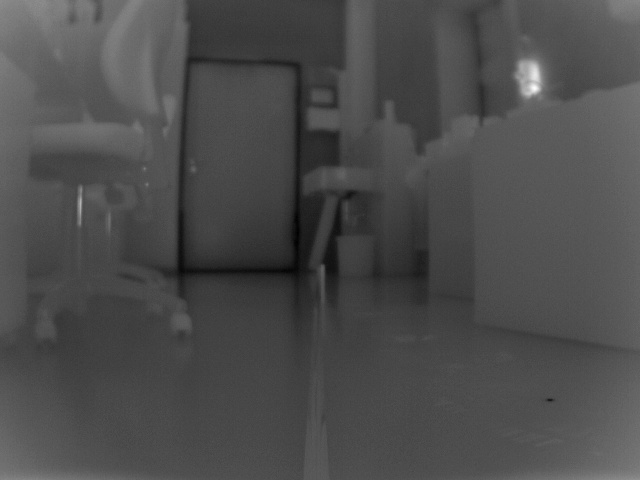aluminum profile: (318, 263, 327, 307)
